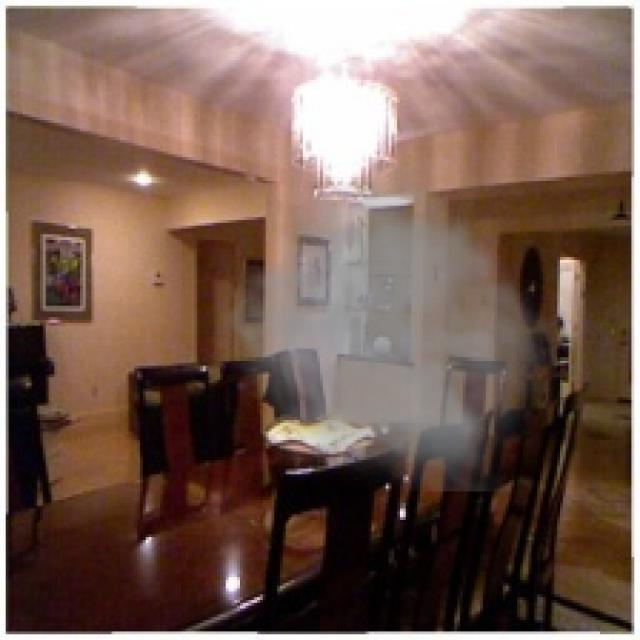smoke: (208, 143, 568, 491)
